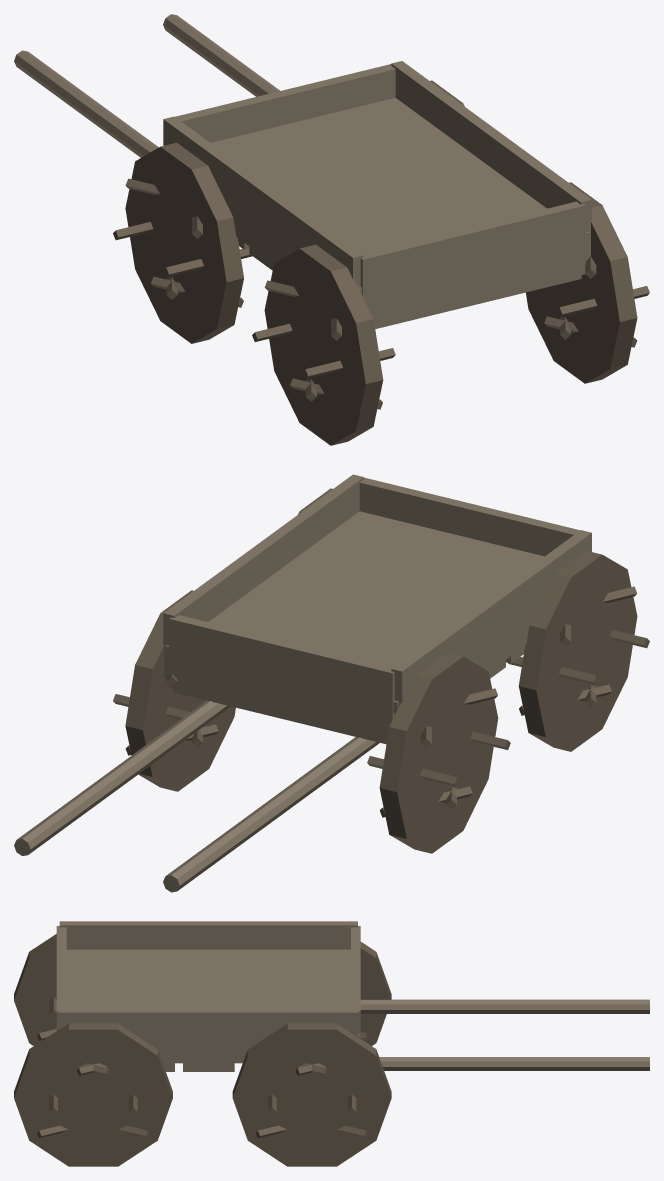
Rendered from panje_wagon.glb.
3 views of the same model, one above another, from view 1: azimuth 30°, elevation 25°; view 2: azimuth 150°, elevation 25°; view 3: azimuth 270°, elevation 25° (orthographic). The views are drawn at different scales.
Parts seen in each view (by area): view 1: panje_wagon; view 2: panje_wagon; view 3: panje_wagon.
Part boxes in pixels (bbox=[...]): panje_wagon: bbox=[14, 14, 649, 445]; panje_wagon: bbox=[14, 474, 649, 892]; panje_wagon: bbox=[14, 921, 649, 1166].
Size of the model in its own units: 1.56 by 0.8204 by 3.2.
